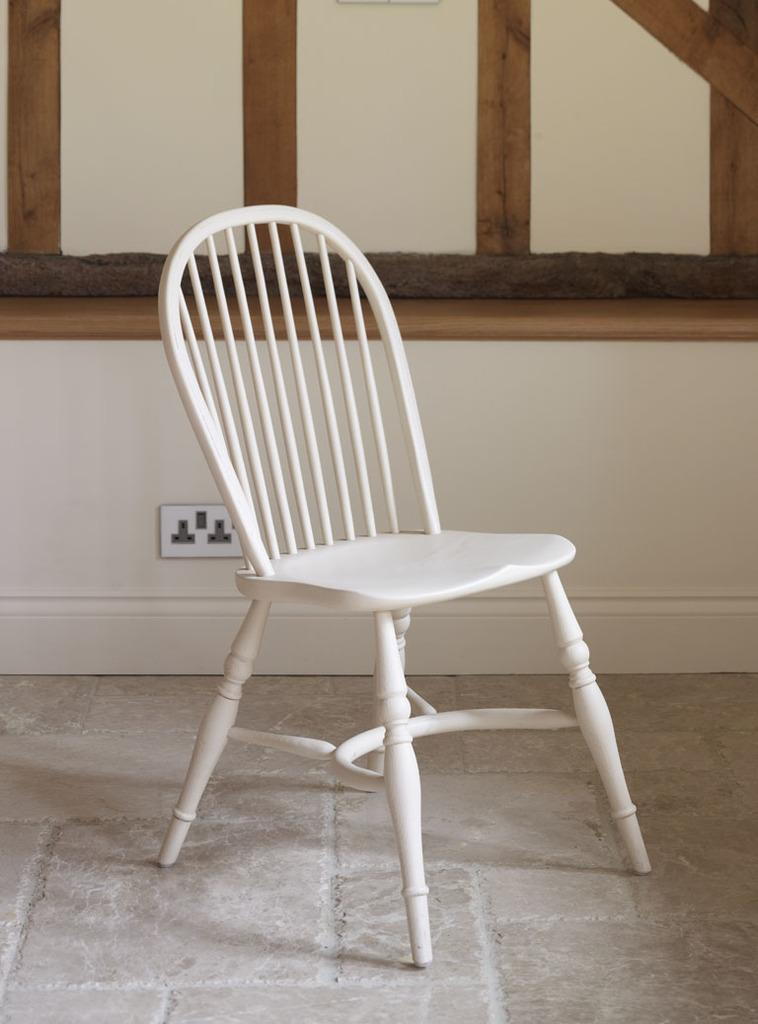Chair: (160, 200, 650, 968)
